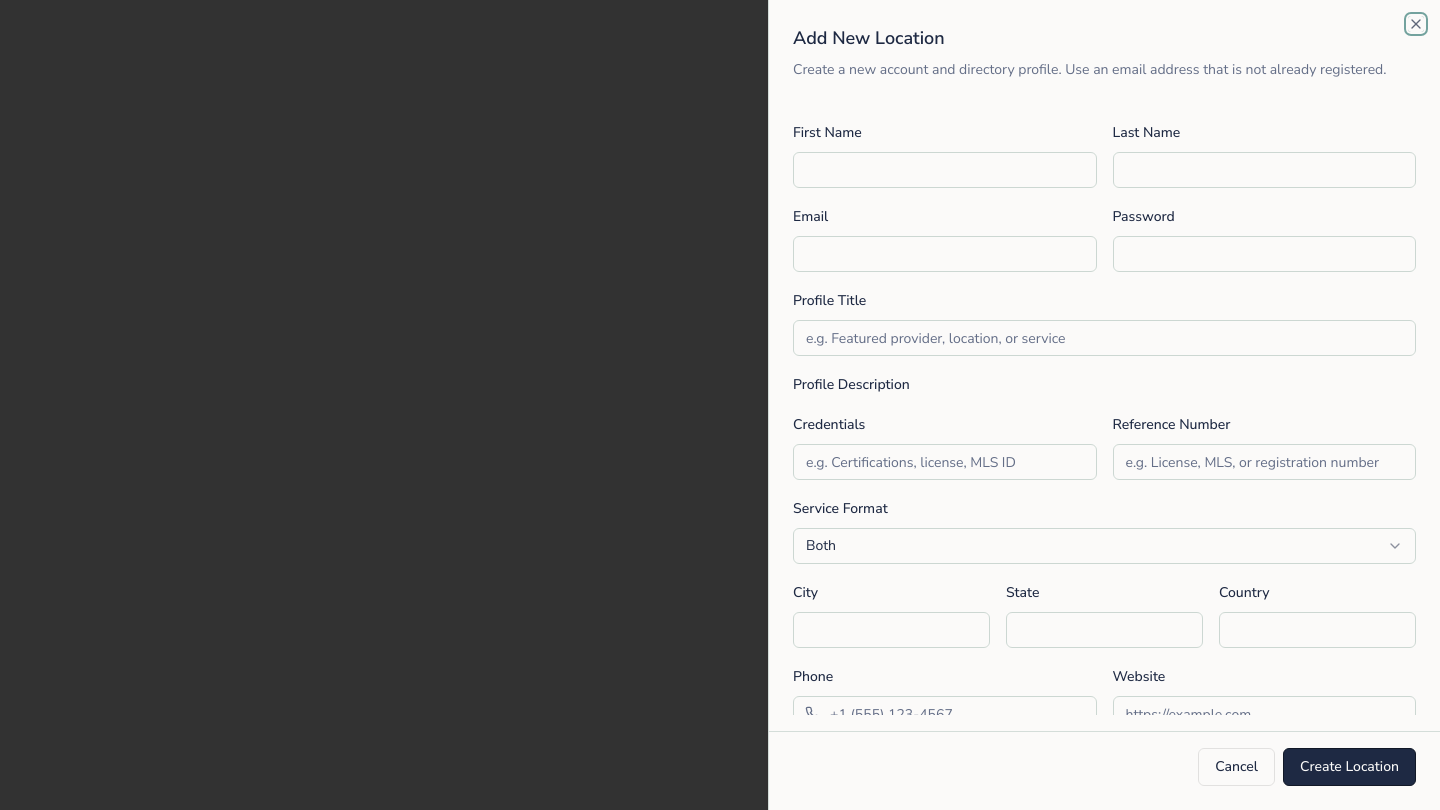
connects the footer submit button to the form and surfaces validation failures
Click the button with test id "button-add-submit" at (1350, 767), box [1283, 748, 1416, 786]
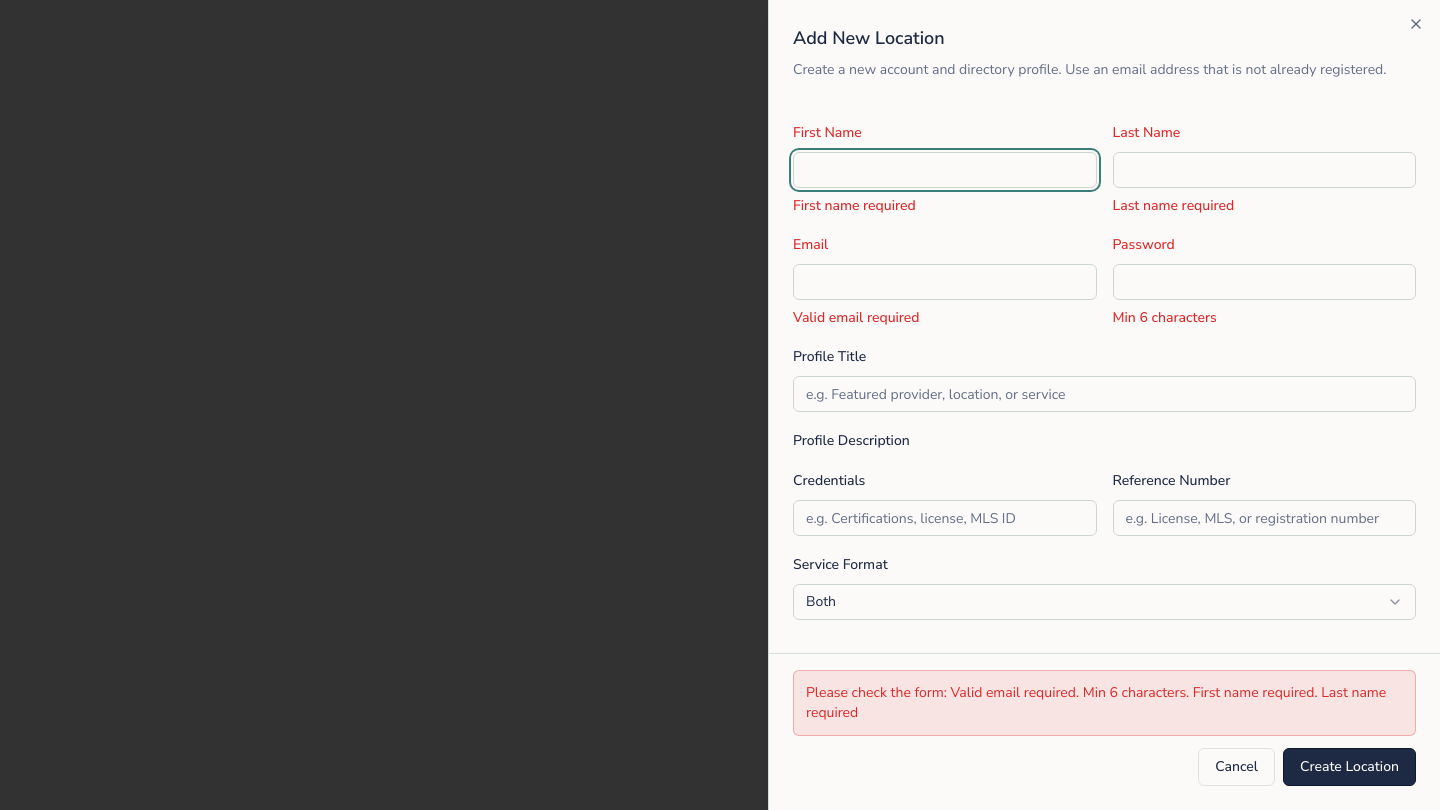
Expected: the message with test id "add-profile-error" shows "First name required", [806, 683, 1386, 722]
Expected: the message with test id "add-profile-error" shows "Valid email required", [806, 683, 1386, 722]
